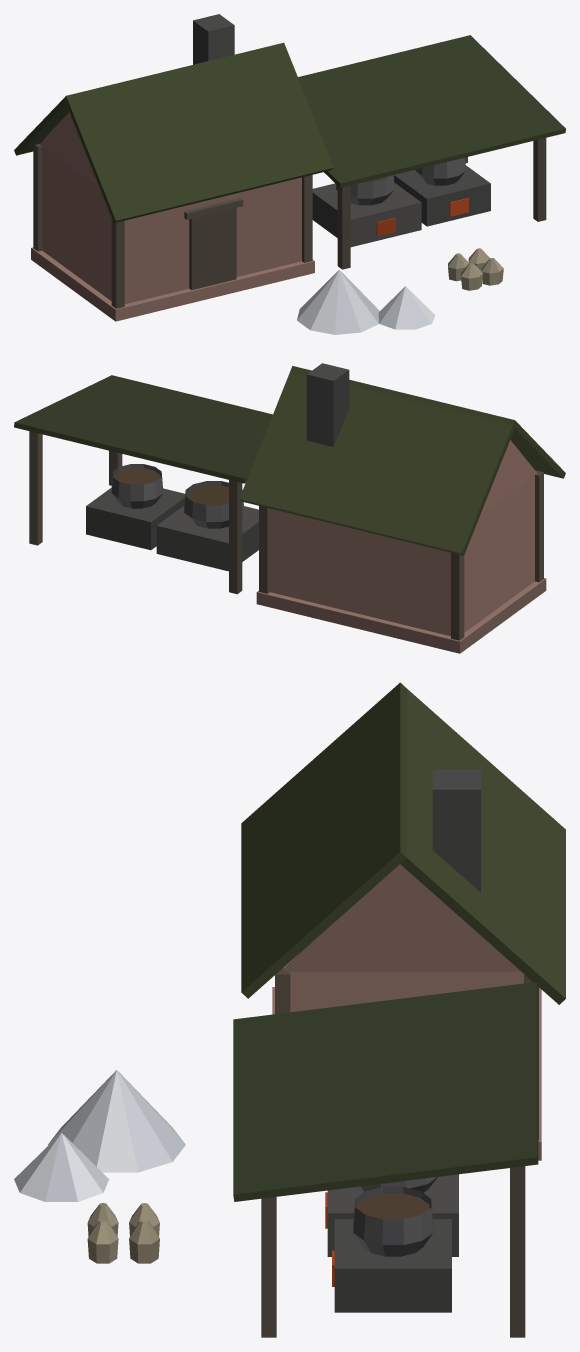
Rendered from walk_reef_saltworks.glb.
3 renders of one model, top to bottom at view 1: azimuth 30°, elevation 25°; view 2: azimuth 150°, elevation 25°; view 3: azimuth 270°, elevation 25°, orthographic. The views are drawn at different scales.
Parts seen in each view (by area): view 1: walk_reef_saltworks_roof, walk_reef_saltworks; view 2: walk_reef_saltworks_roof, walk_reef_saltworks; view 3: walk_reef_saltworks_roof, walk_reef_saltworks.
Part boxes in pixels (x1,y1,x2,y2): walk_reef_saltworks_roof: (14, 14, 565, 222); walk_reef_saltworks: (31, 112, 546, 334); walk_reef_saltworks_roof: (14, 363, 565, 555); walk_reef_saltworks: (29, 431, 546, 653); walk_reef_saltworks_roof: (233, 682, 565, 1201); walk_reef_saltworks: (14, 864, 541, 1337).
Size of what is drawn, in the model's own units: 11.9 by 5.6 by 7.99.
2 materials, 2 textured.
